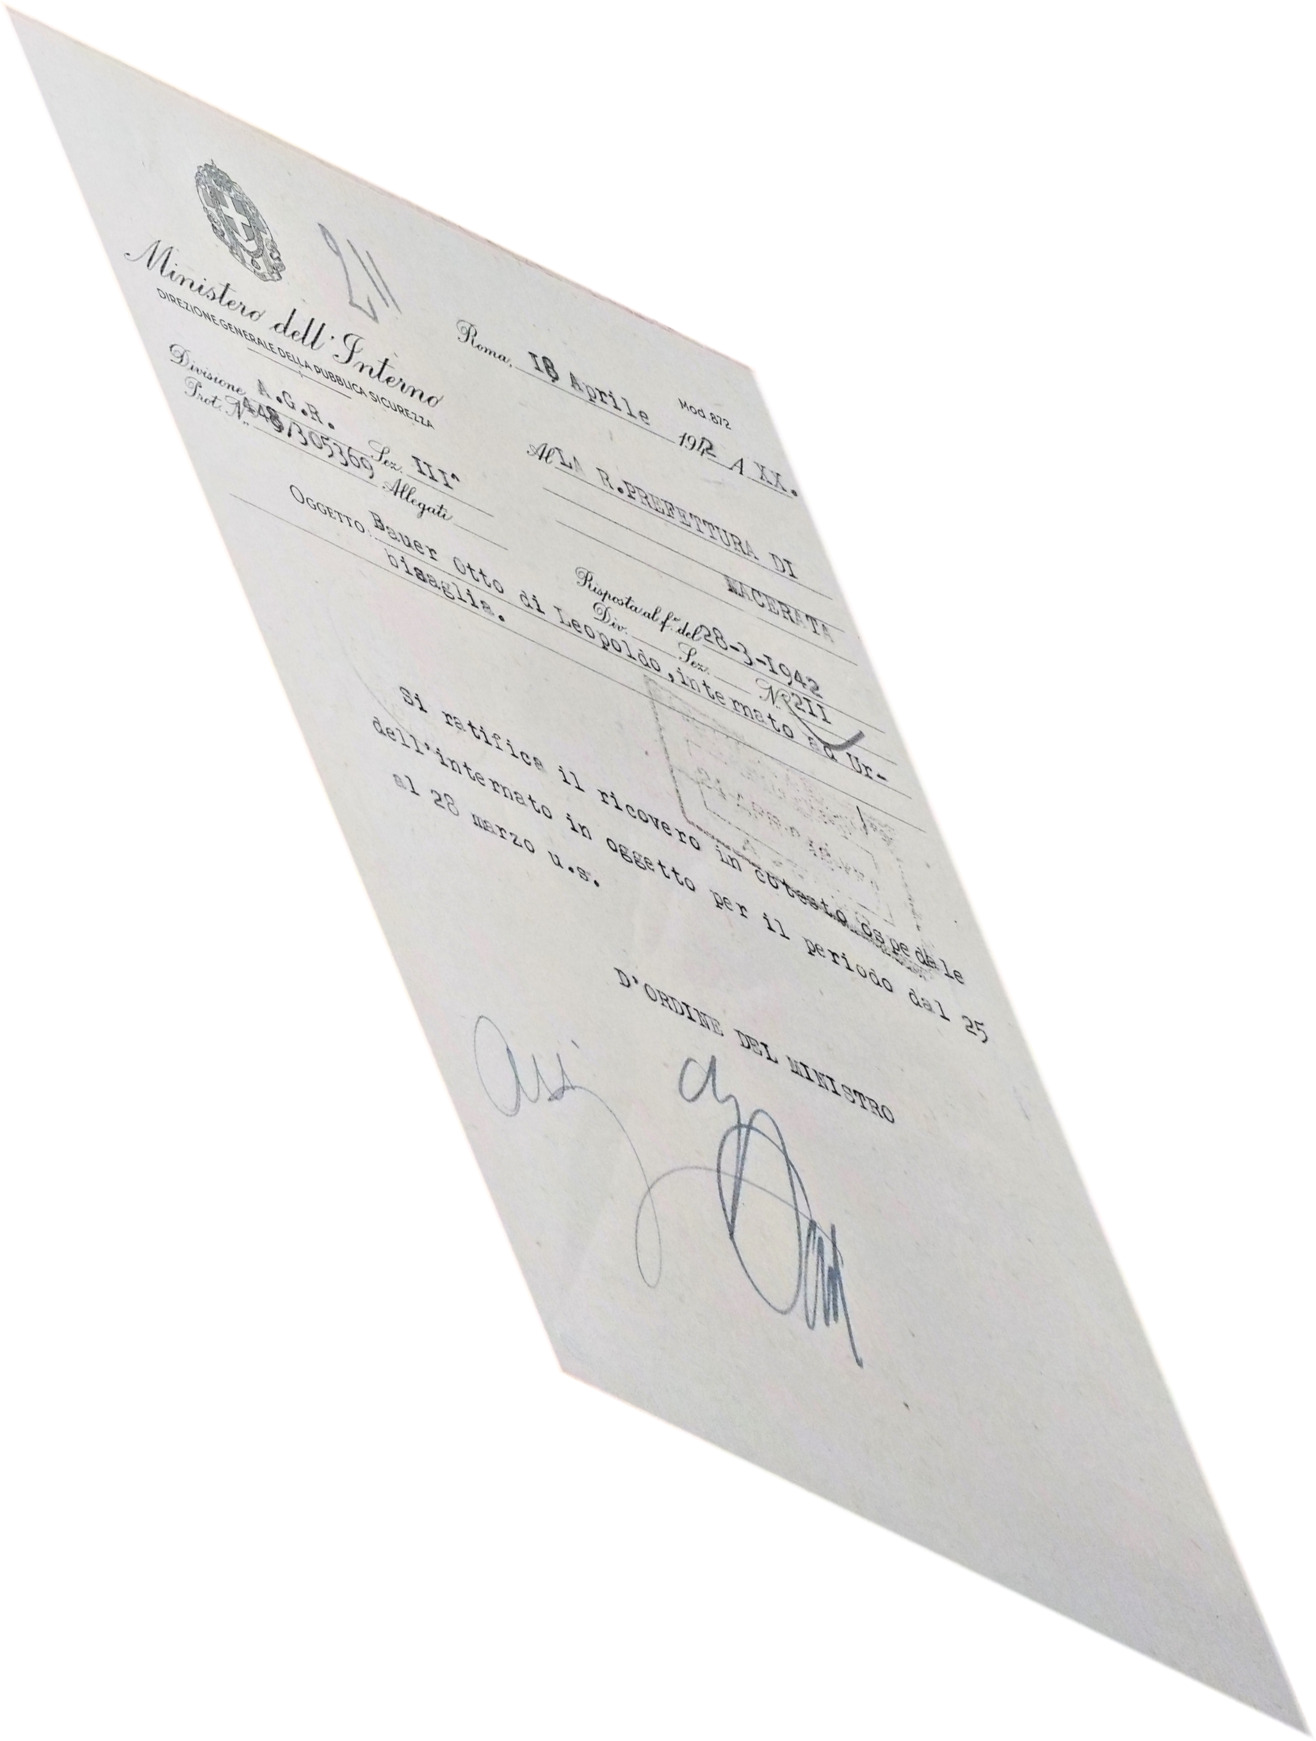stamp: (641, 670, 930, 946)
